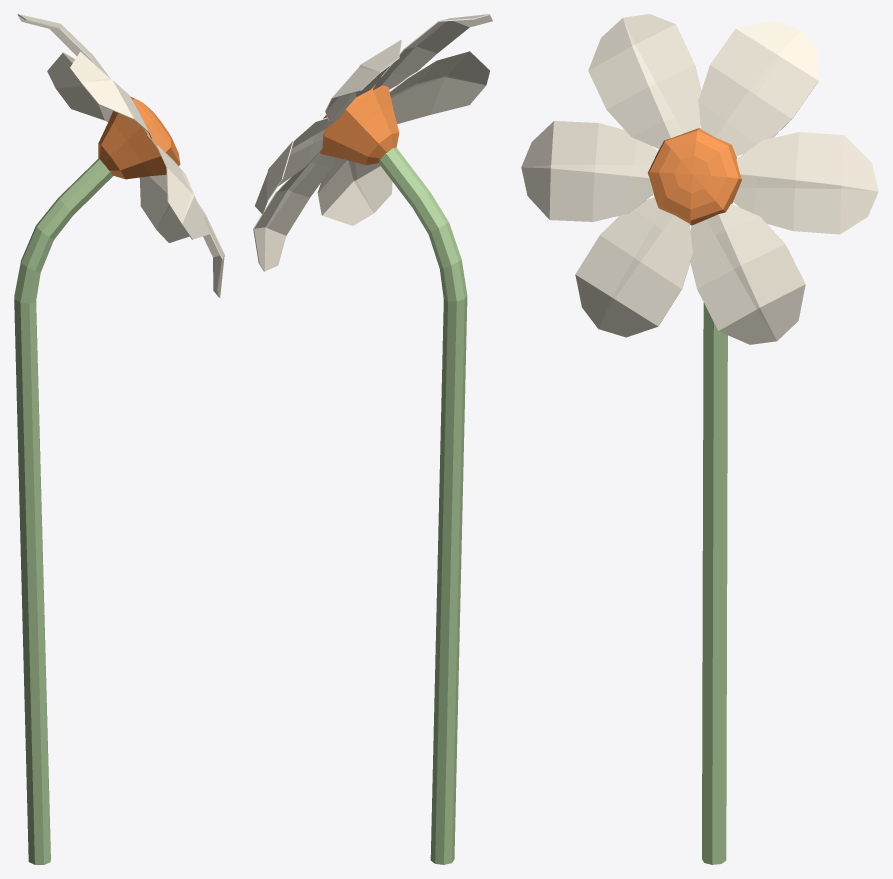
Rendered from Bedroom_2_Flower.fbx.
The picture shows the model from 3 angles, left to right: view 1: azimuth 30°, elevation 25°; view 2: azimuth 150°, elevation 25°; view 3: azimuth 270°, elevation 25°; orthographic projection. The views are drawn at different scales.
Parts seen in each view (by area): view 1: Bedroom_2_Flower; view 2: Bedroom_2_Flower; view 3: Bedroom_2_Flower.
Boxes of the visible parts, left/top/right/bottom form: Bedroom_2_Flower: left=14, top=14, right=224, bottom=864; Bedroom_2_Flower: left=253, top=14, right=492, bottom=864; Bedroom_2_Flower: left=521, top=14, right=878, bottom=864.
Bounding box in the file's own units: 12.17 × 53.08 × 20.3.
